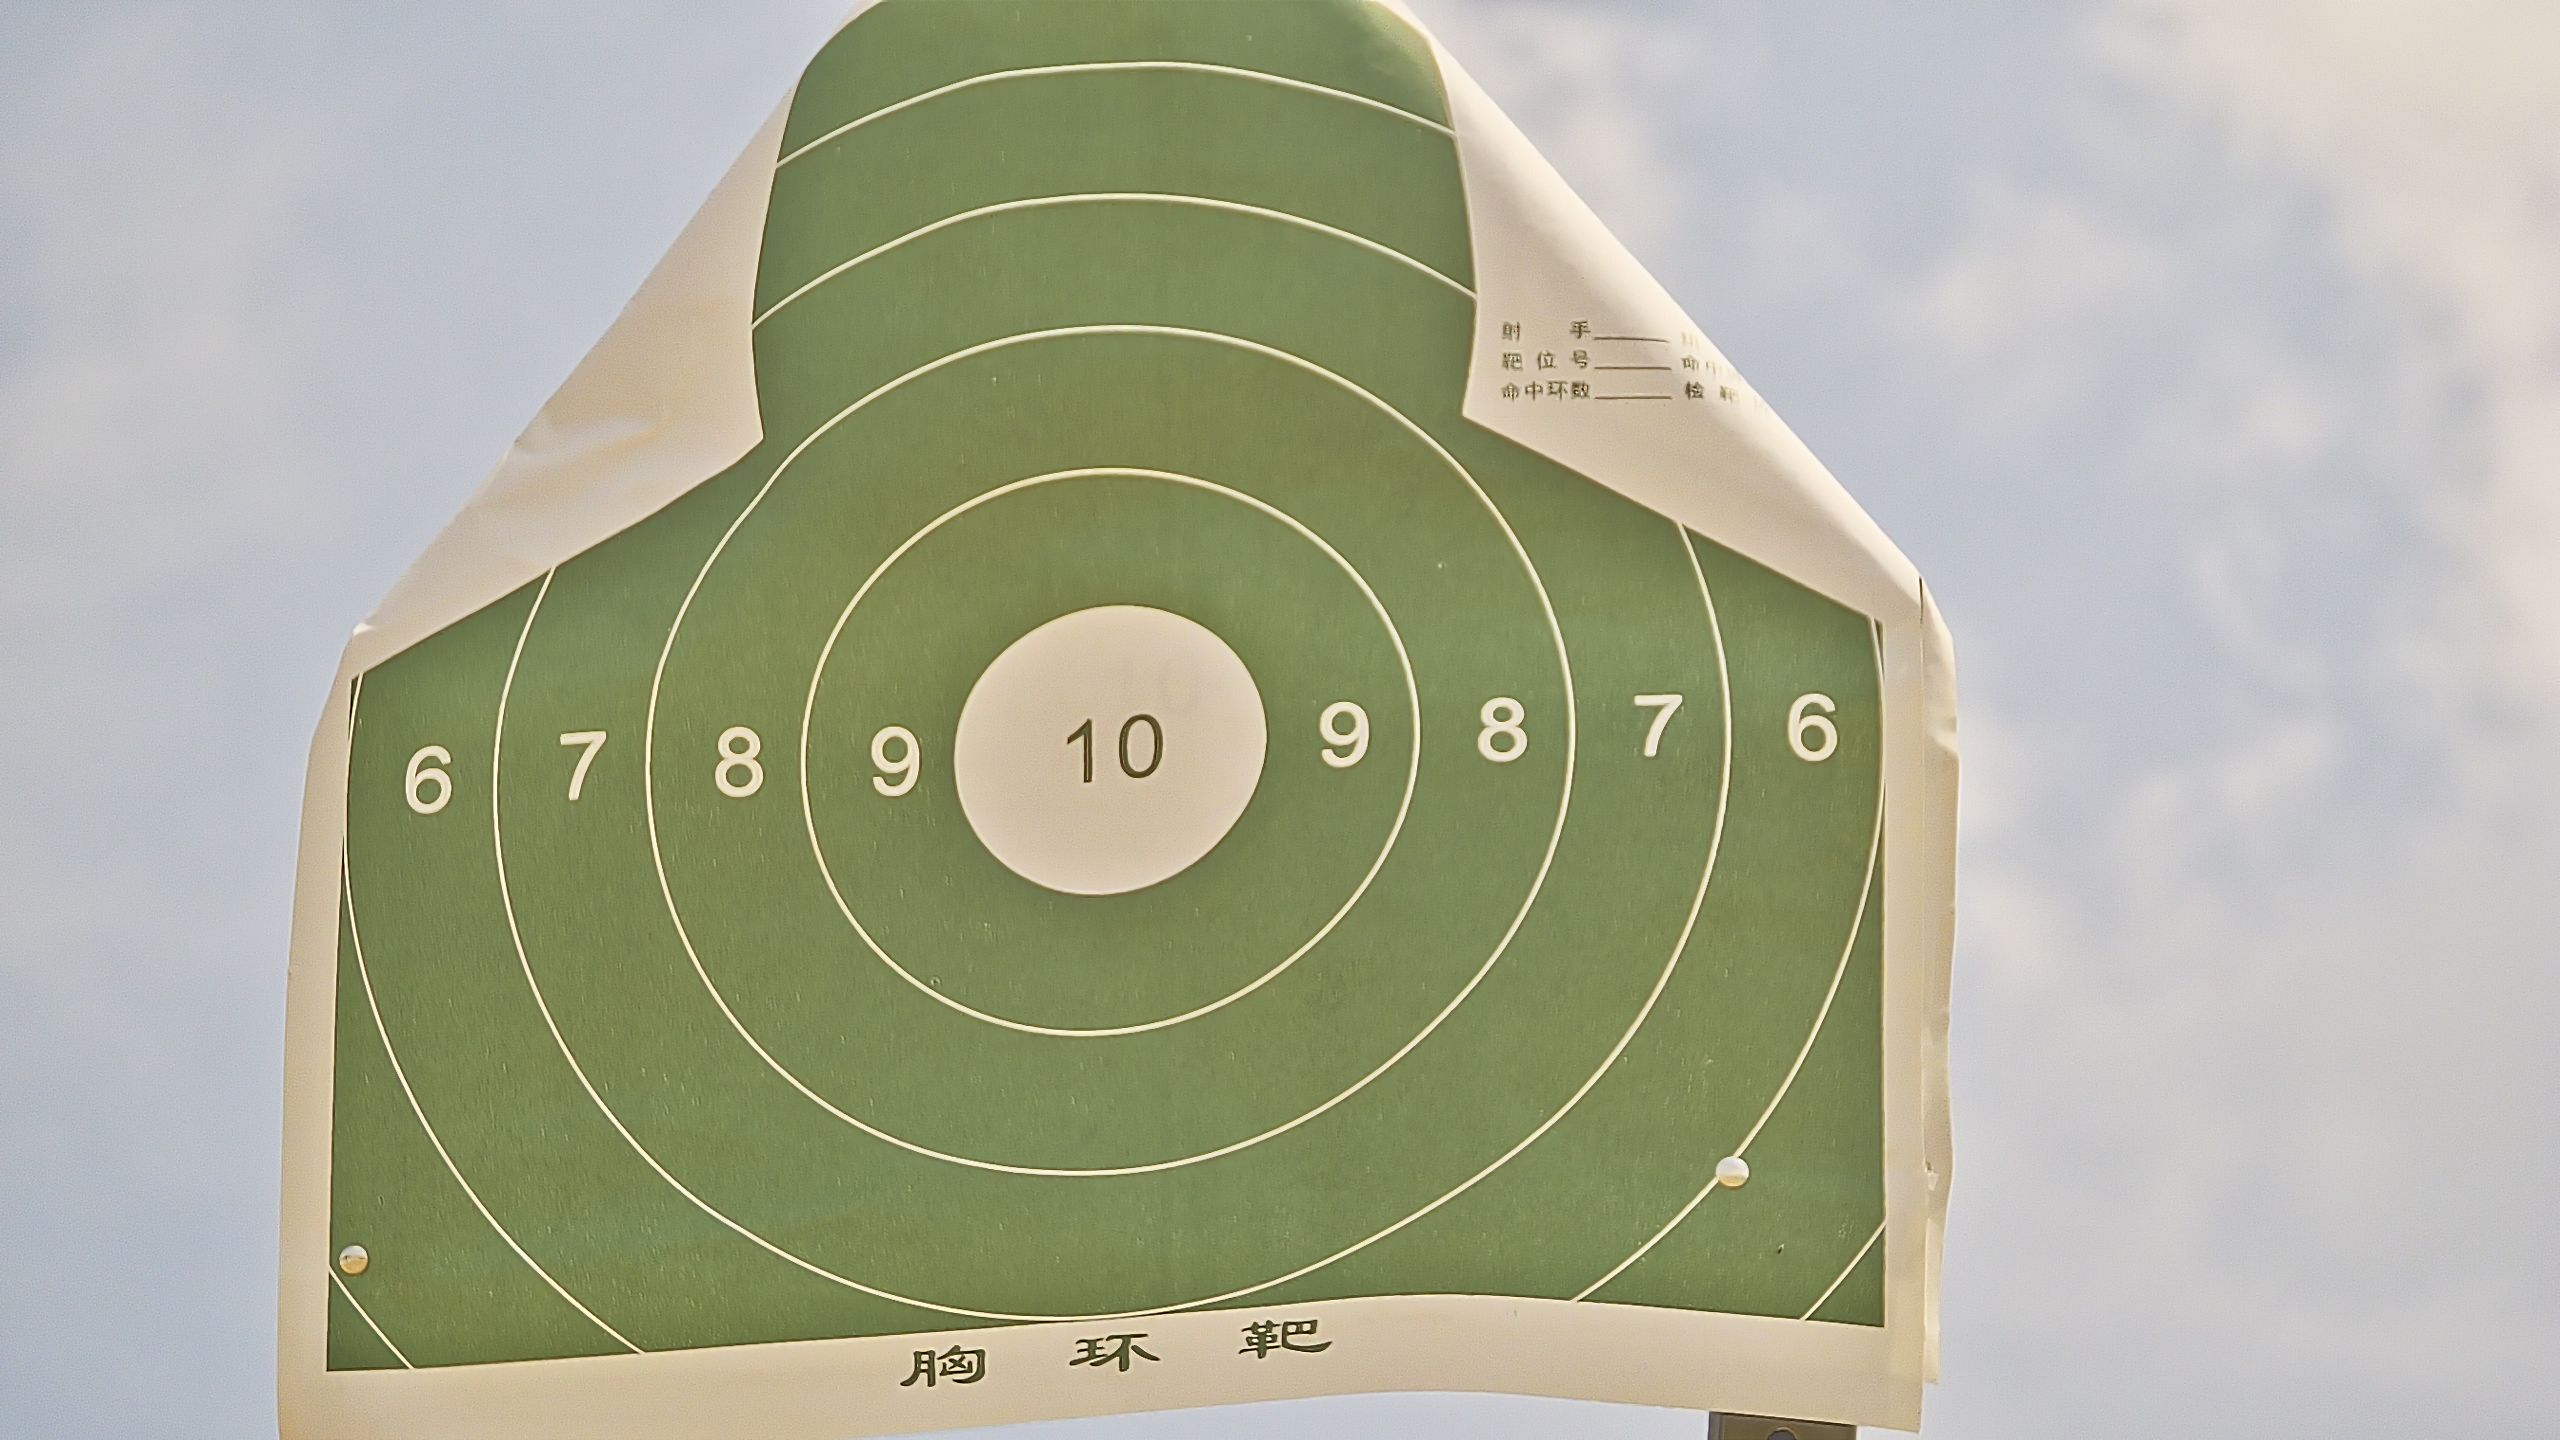kernel: (1109, 751, 1111, 756)
target: (309, 5, 1888, 1357)
ten: (951, 600, 1268, 893)
